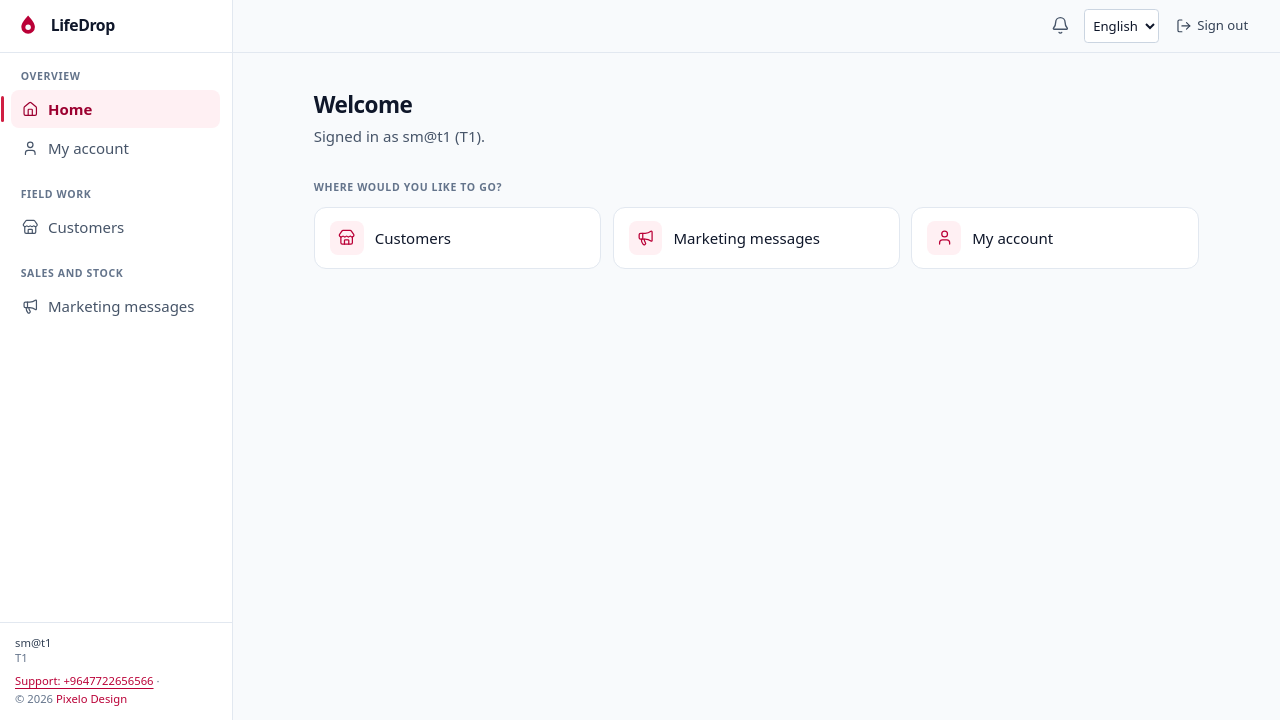
Test: panel management screens › marketing by the WhatsApp Business API: the delivery choice appears only when it is on, and an api campaign shows how each message went
Click the button "Marketing messages". click: {"x": 116, "y": 306}
box: [11,288,220,325]
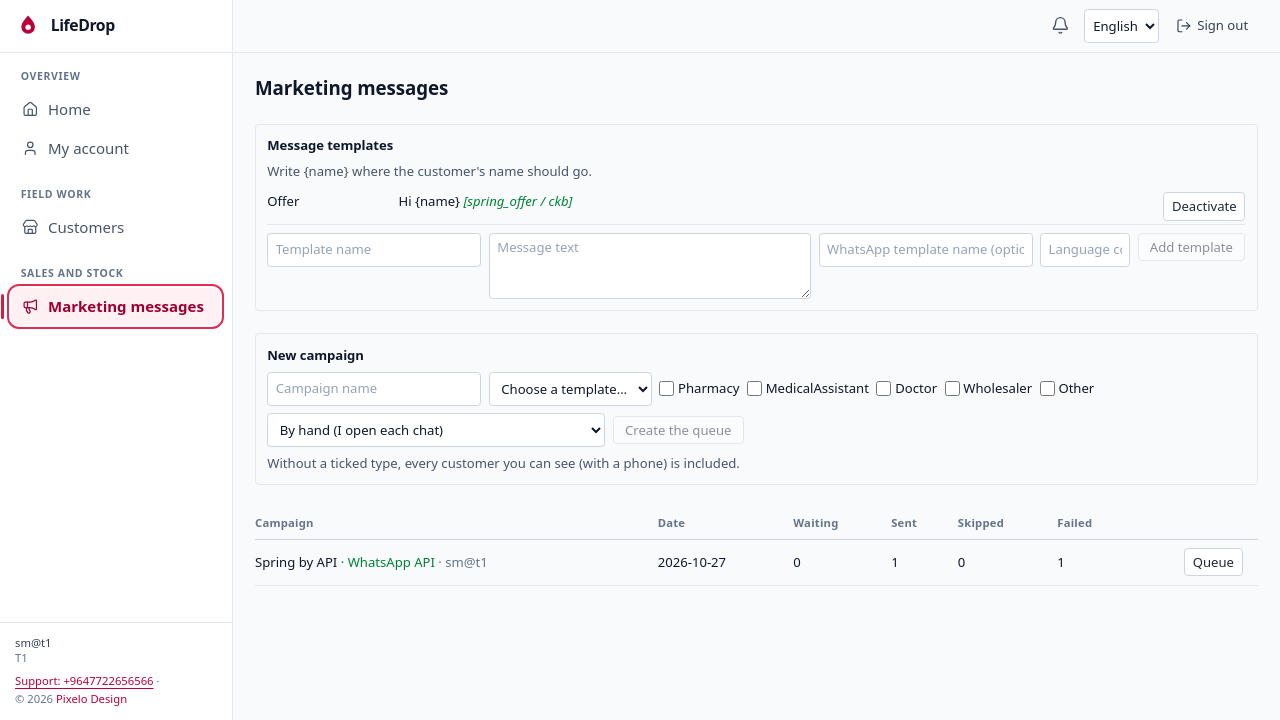
expect the text "[spring_offer / ckb]" is shown: met, box [460,192,572,210]
Type "Spring by API" into the field labelled "Campaign name". click: {"x": 374, "y": 389}
box: [267,372,481,406]
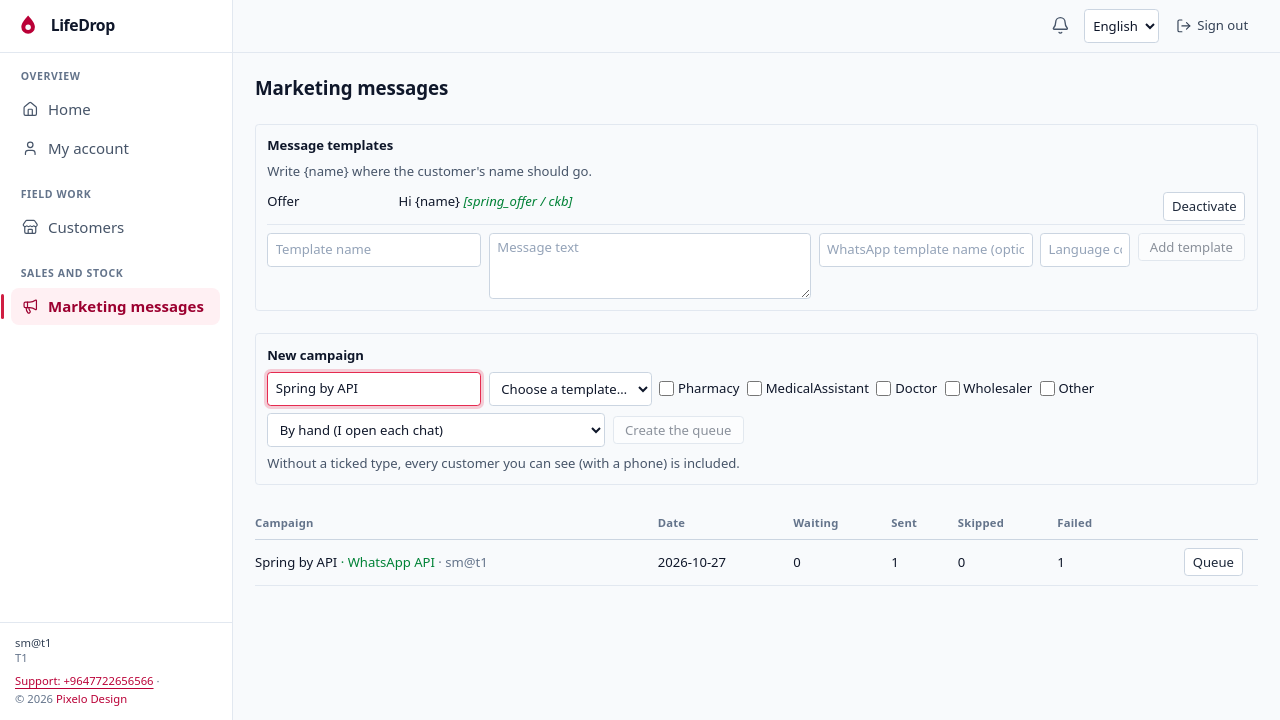
Select "Offer" in the dropdown named "Choose a template…". click: {"x": 570, "y": 389}
box: [489,372,652,406]
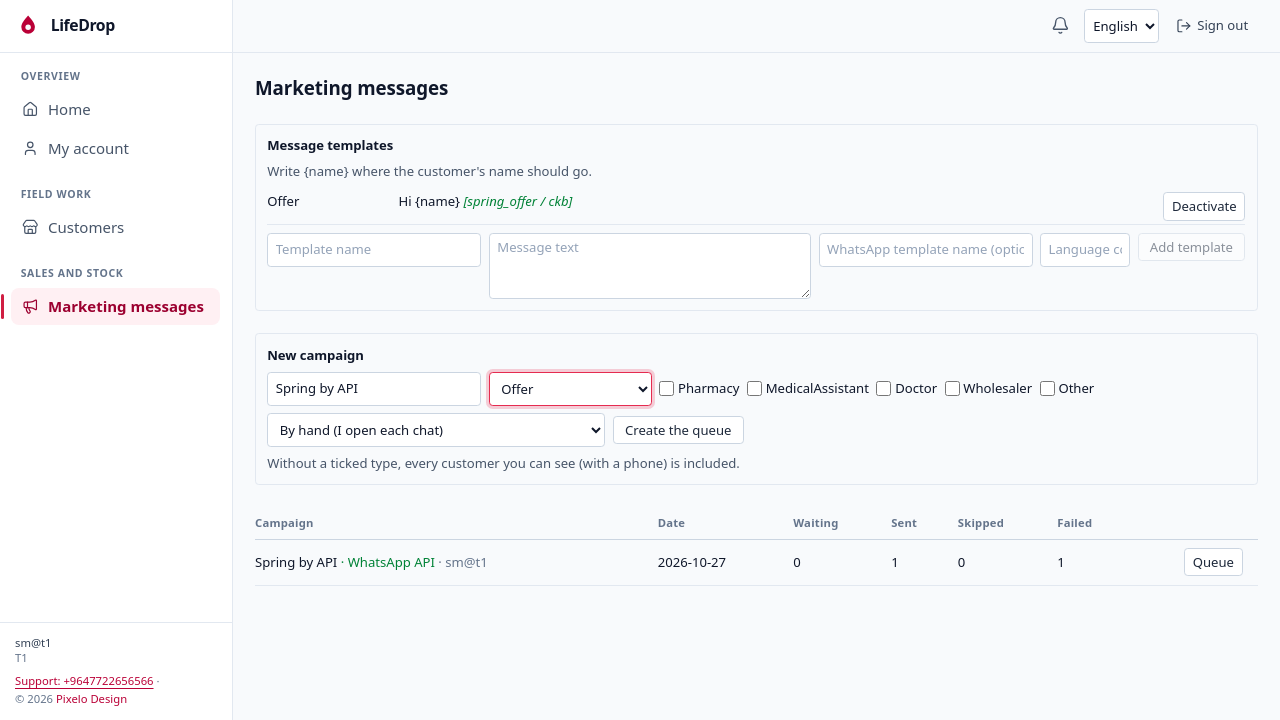
Select "By the WhatsApp Business API (the server sends)" in the dropdown named "How to send". click: {"x": 436, "y": 430}
box: [267,413,605,447]
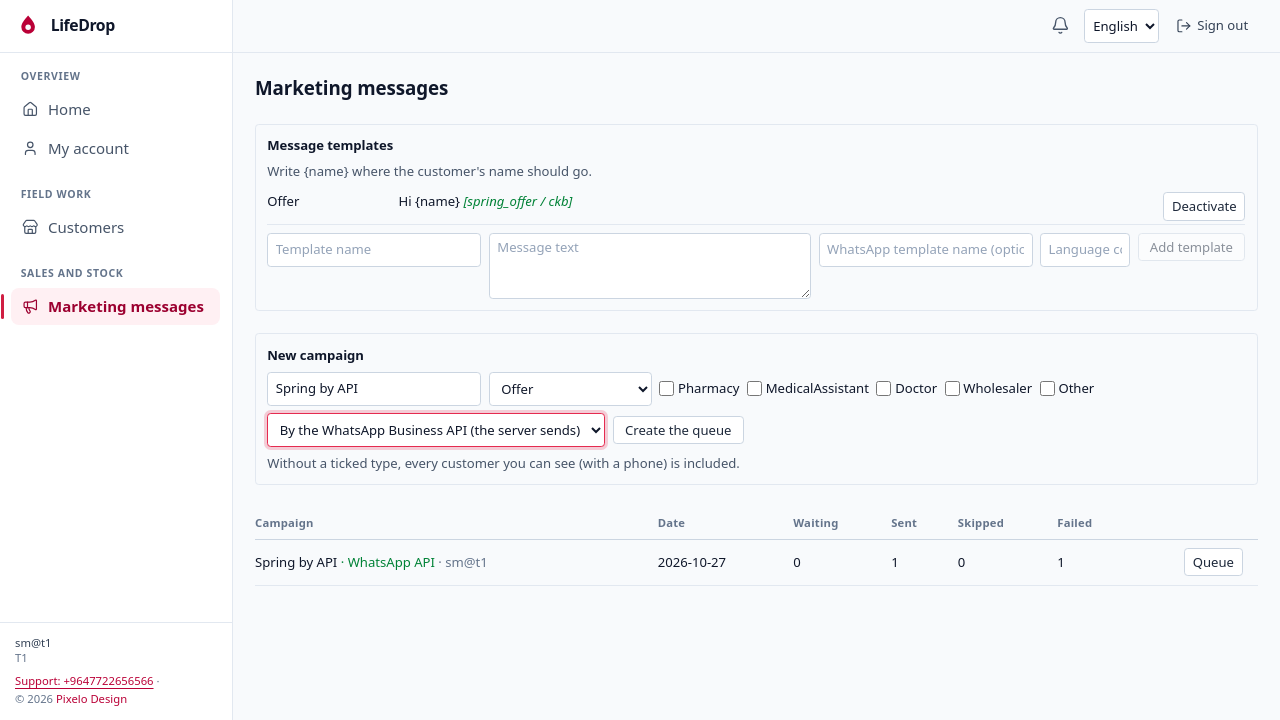
Click the button "Create the queue". click: {"x": 678, "y": 430}
box: [613,416,744,444]
(page scrolled)
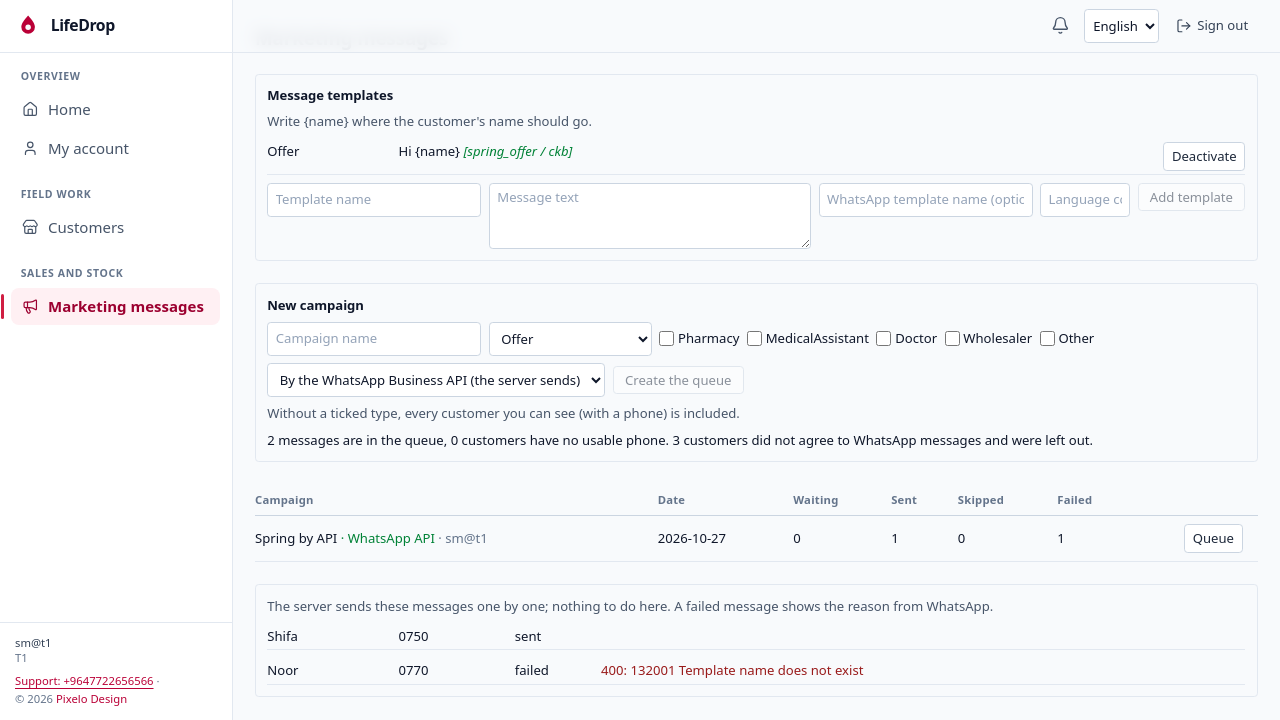
expect the text "3 customers did not agree to WhatsApp messages" is shown: met, box [669,430,1093,448]
expect the text "400: 132001 Template name does not exist" is shown: met, box [601,661,863,679]
